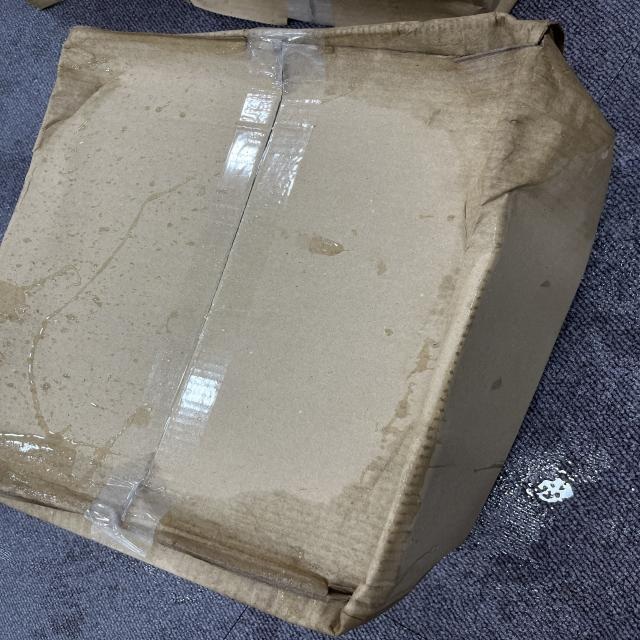wet: (131, 440, 465, 632), (304, 28, 600, 210)
